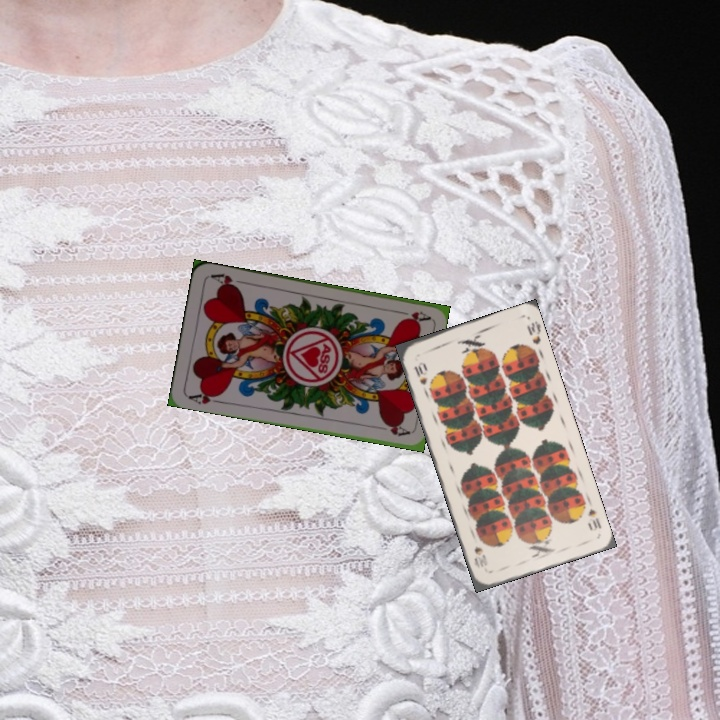HA: (184, 387, 224, 407), (391, 306, 431, 324)
S10: (410, 358, 430, 388), (583, 505, 604, 533)
